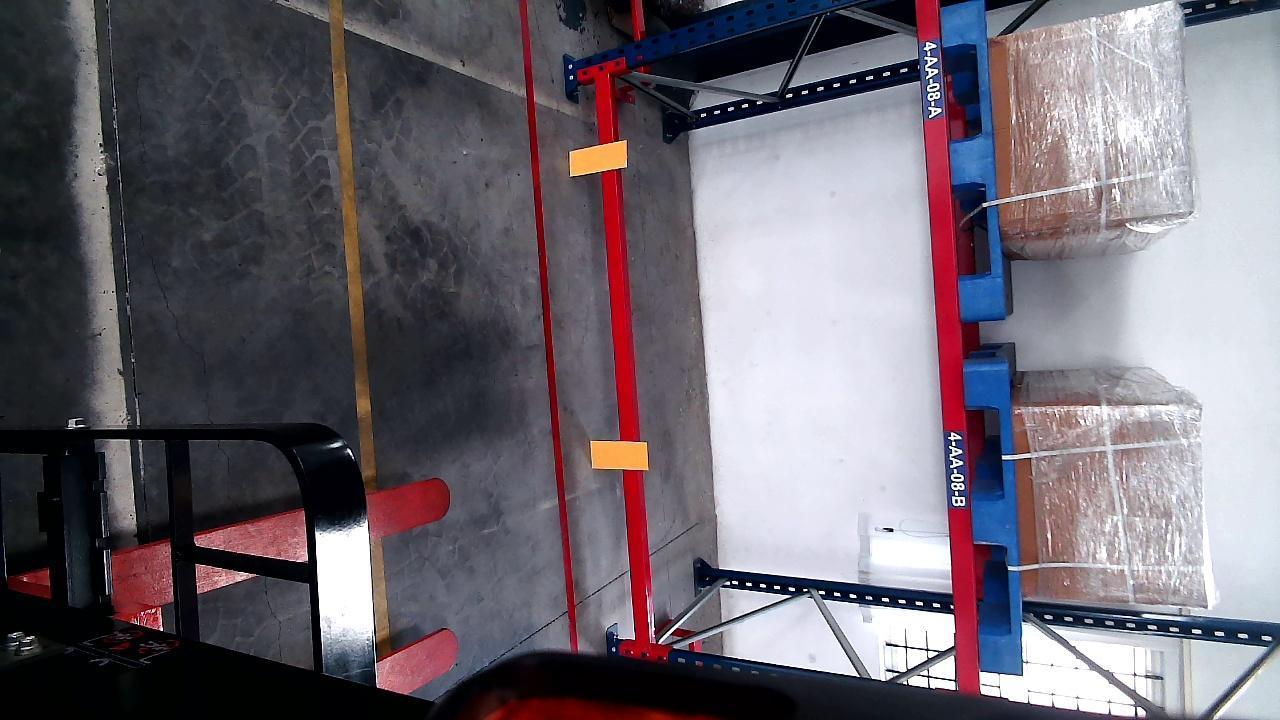h_rack: (594, 78, 660, 648)
orange_strip: (568, 140, 627, 175), (591, 438, 647, 469)
small_pallet: (942, 1, 1009, 318), (966, 360, 1022, 669)
